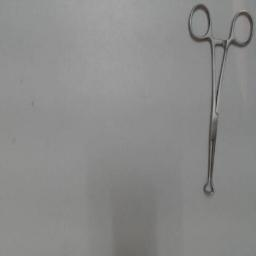Babcock Tissue Forceps: (186, 0, 254, 198)
